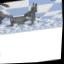drone: (0, 1, 42, 29)
